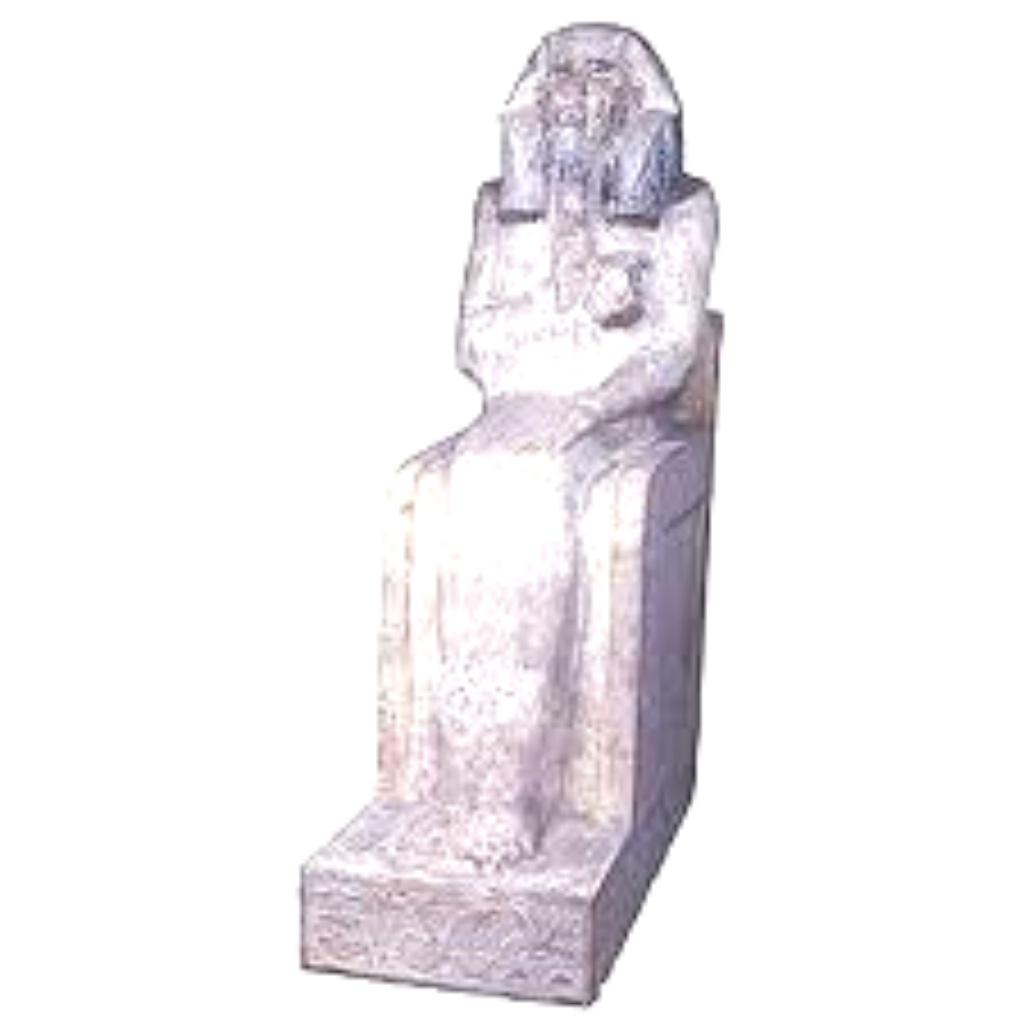Statue of King Zoser: (291, 14, 728, 1006)
